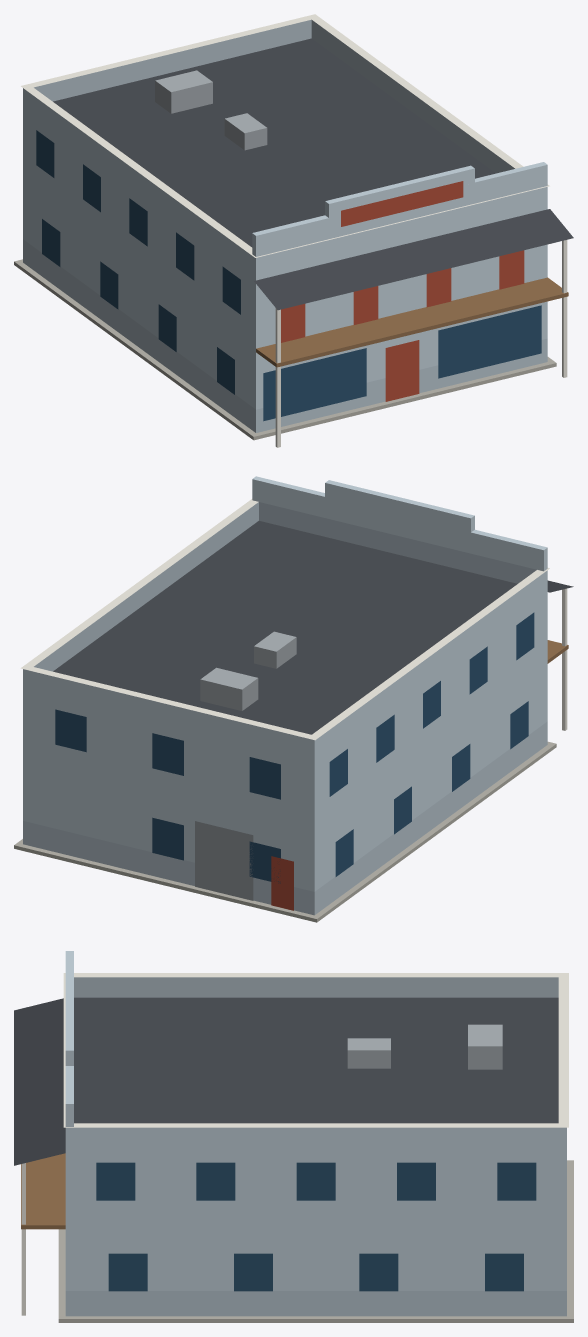
File: shop_13x18_2f_lod1.glb
3 views of the same model, one above another, from view 1: azimuth 30°, elevation 25°; view 2: azimuth 150°, elevation 25°; view 3: azimuth 270°, elevation 25° (orthographic). The views are drawn at different scales.
Parts seen in each view (by area): view 1: block; view 2: block; view 3: block.
Boxes of the visible parts, bbox=[...] form: block: bbox=[14, 14, 573, 447]; block: bbox=[14, 476, 573, 922]; block: bbox=[14, 951, 573, 1322].
Bounding box in the file's own units: 13.5 × 9.15 × 20.1.
